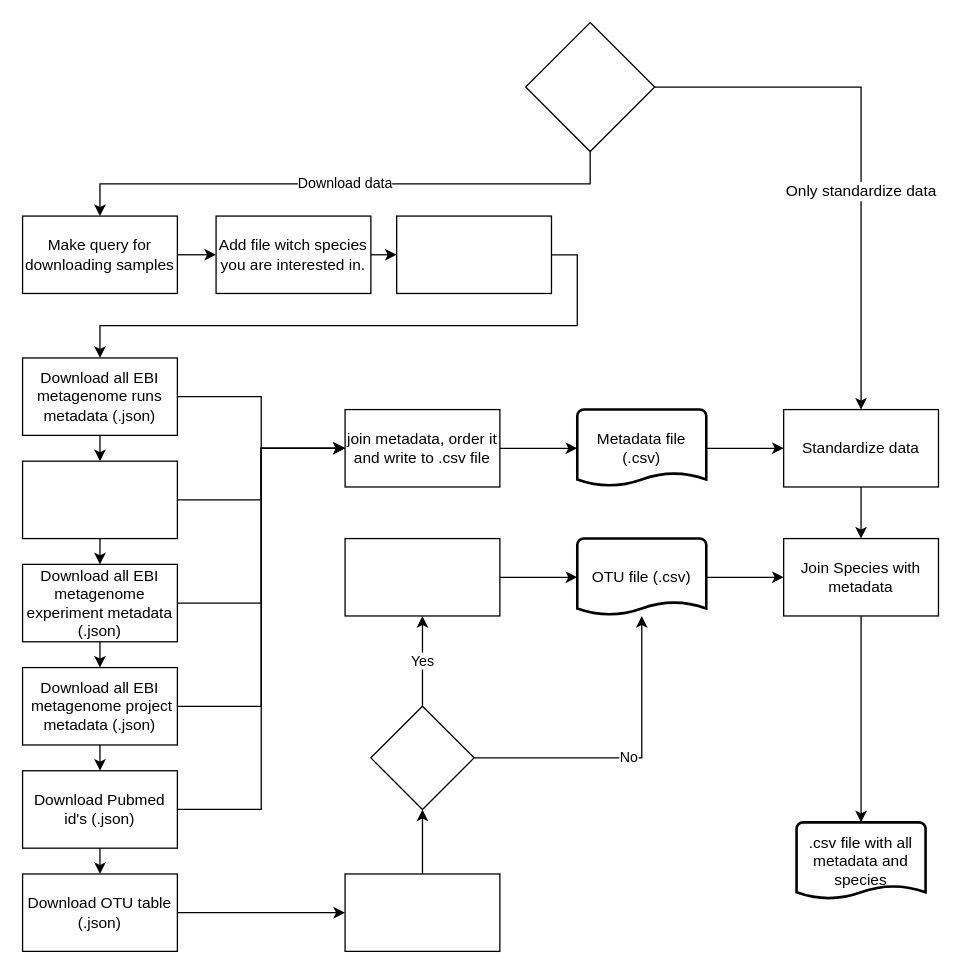
This 961x974 diagram has some shape labels left out. Each missing label, with the box of its shape:
Add file with metadata names in order.: (395, 215, 551, 293)
Download all EBI metagenome sample metadata (.json): (21, 460, 177, 539)
Filter unwanted species out: (344, 873, 500, 951)
Make from the species count relative data: (344, 537, 500, 616)
Make relative?: (370, 705, 474, 809)
Only standardize or also download data?: (524, 21, 655, 152)
